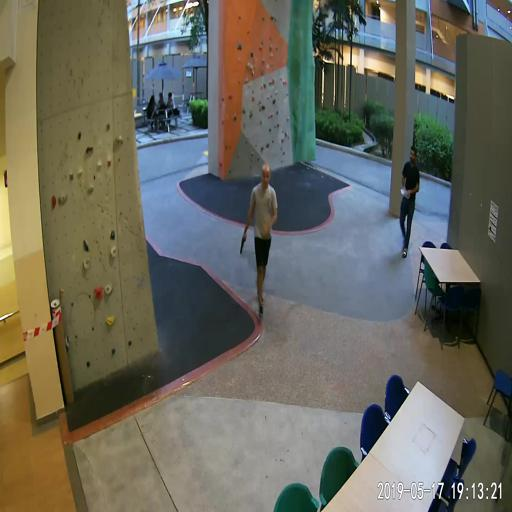pistol: (240, 235, 246, 253)
